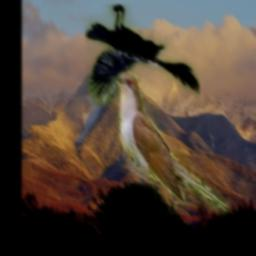Crow: (86, 4, 200, 107)
Cuckoo: (111, 73, 235, 216)
